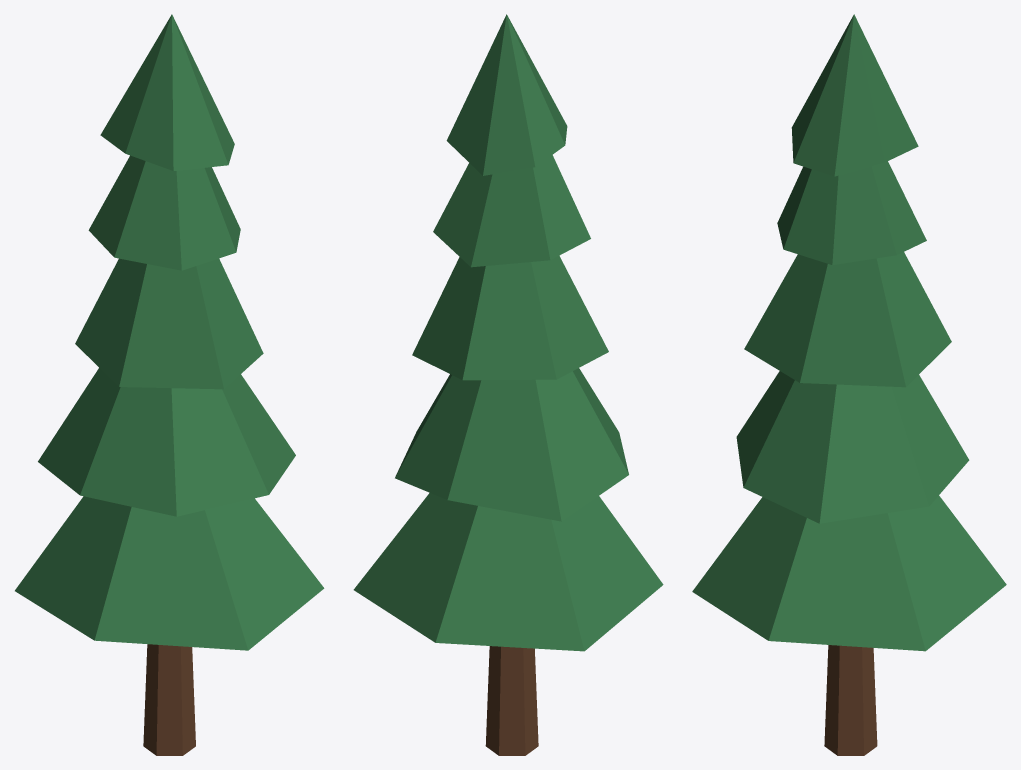
File: PineTall_B.glb
The picture shows the model from 3 angles, left to right: view 1: azimuth 30°, elevation 25°; view 2: azimuth 150°, elevation 25°; view 3: azimuth 270°, elevation 25°; orthographic projection.
Visible parts, largest first — view 1: PineTall_B; view 2: PineTall_B; view 3: PineTall_B.
Part boxes in pixels (x1=…): PineTall_B: x1=15, y1=14, x2=324, y2=755; PineTall_B: x1=353, y1=14, x2=663, y2=755; PineTall_B: x1=692, y1=14, x2=1006, y2=755.
Size of the model in its own units: 2.47 by 7.34 by 2.85.
